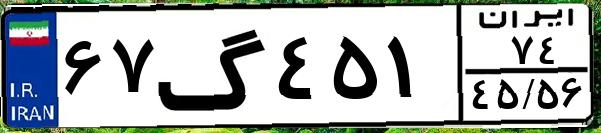1: (385, 28, 445, 110)
4: (270, 28, 330, 110), (537, 27, 568, 80), (470, 70, 495, 125)
5: (330, 28, 385, 110), (495, 70, 520, 125), (535, 70, 560, 125)
6: (57, 26, 110, 100), (560, 70, 590, 125)
7: (110, 28, 156, 98), (508, 27, 537, 80)
گ: (156, 12, 270, 120)
